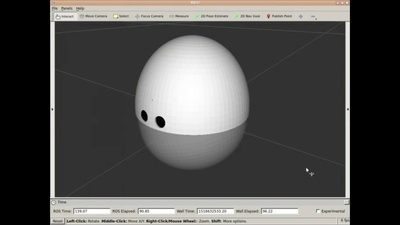mira_robot: (135, 35, 250, 169)
